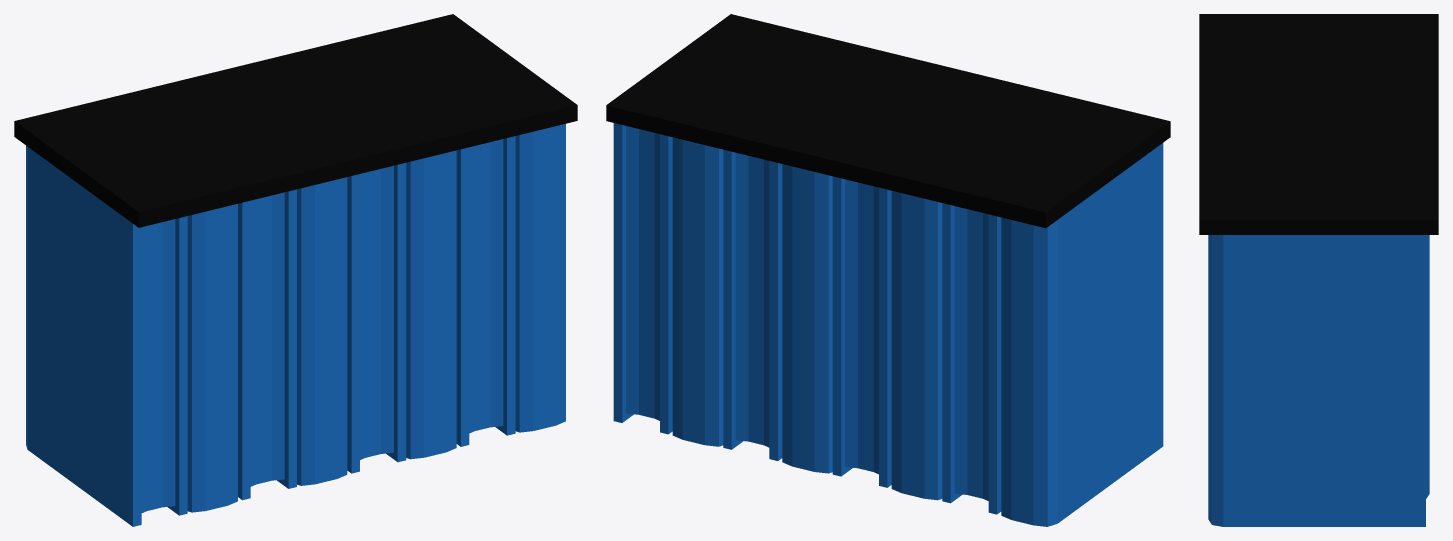
Rendered from SM_table_2.fbx.
3 views of the same model, side by side, from view 1: azimuth 30°, elevation 25°; view 2: azimuth 150°, elevation 25°; view 3: azimuth 270°, elevation 25° (orthographic). The views are drawn at different scales.
Visible parts, largest first — view 1: Cube_93; view 2: Cube_93; view 3: Cube_93.
Boxes of the visible parts, x1=… form: Cube_93: x1=14, y1=14, x2=577, y2=526; Cube_93: x1=606, y1=14, x2=1170, y2=526; Cube_93: x1=1199, y1=14, x2=1438, y2=526.
Bounding box in the file's own units: 130 × 90.53 × 63.82.
